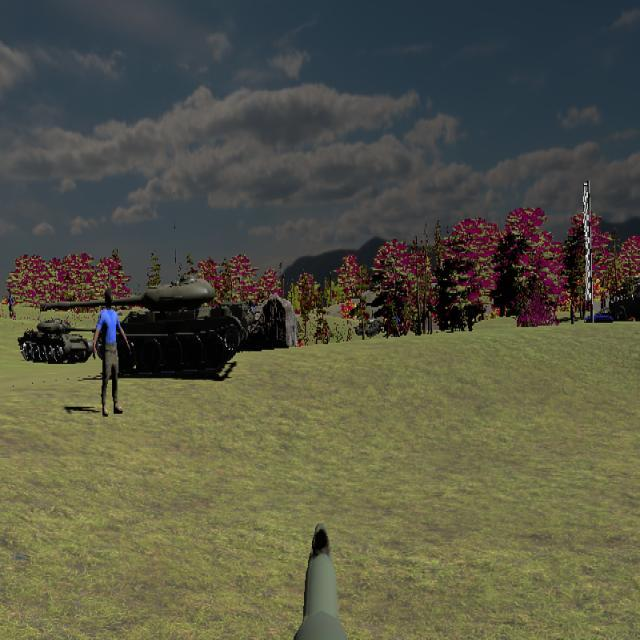Human: (94, 285, 132, 417)
Tank: (40, 277, 247, 377), (17, 317, 94, 364)
